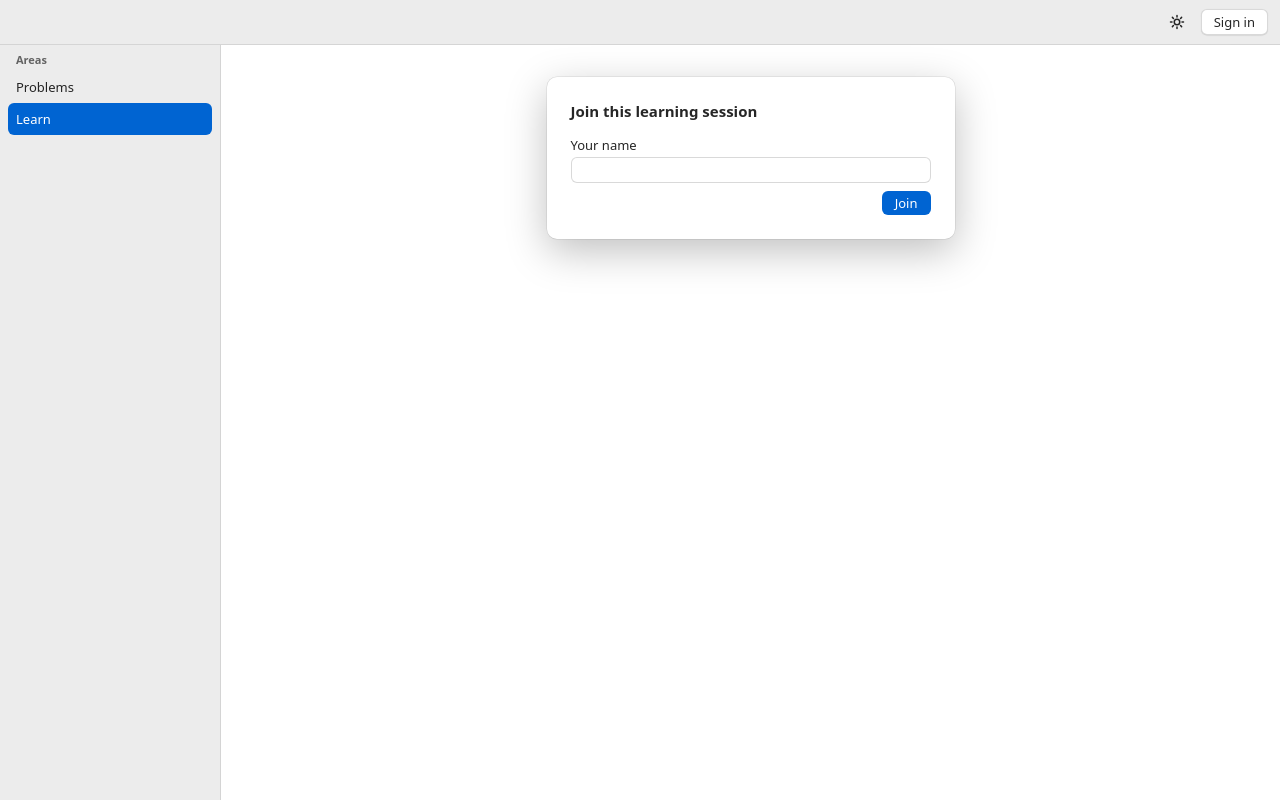
LearningSessionWindow: joining (FR-7, FR-8) › AC-7: a name the server refuses (4422) shows the invalid-name message
The image size is (1280, 800).
In the field labelled "Your name": (750, 170) 570,157 -> 930,183, type "Ada"
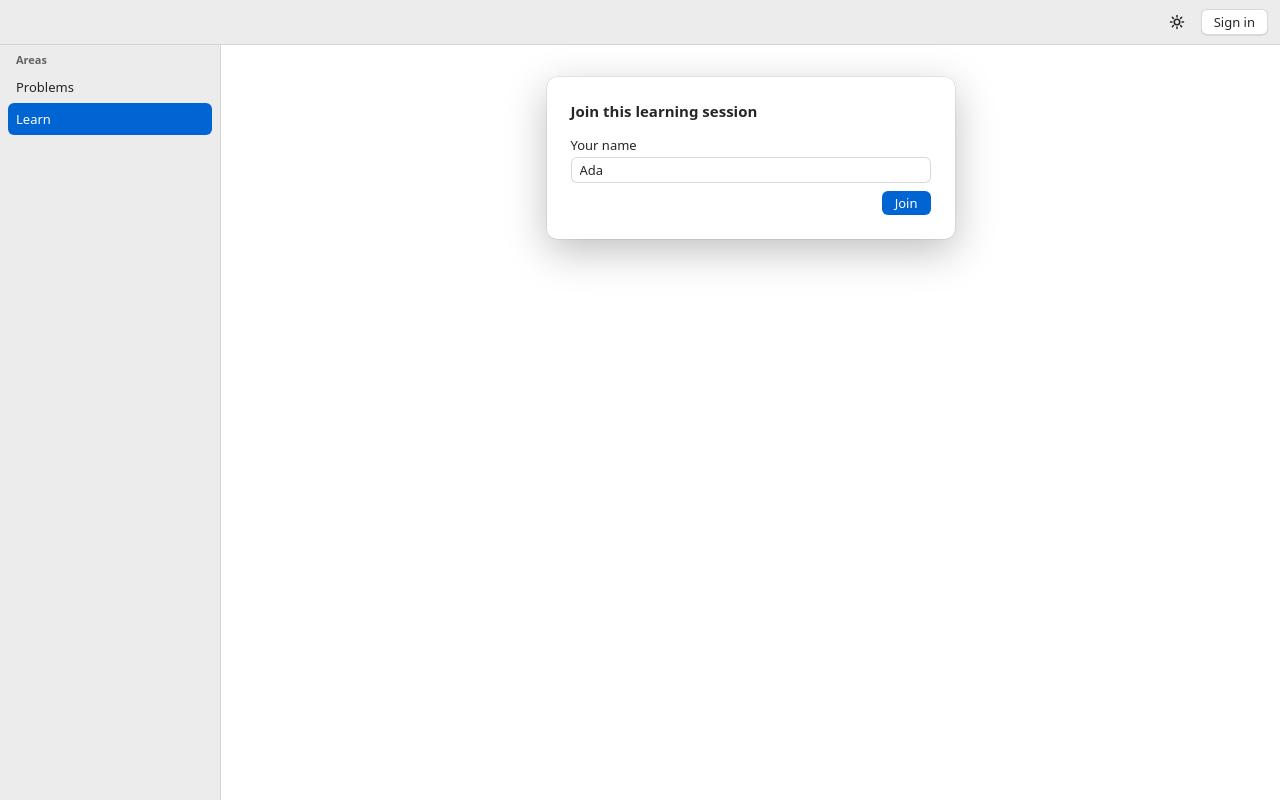
Click the button "Join": click(906, 203) 882,191 -> 930,215
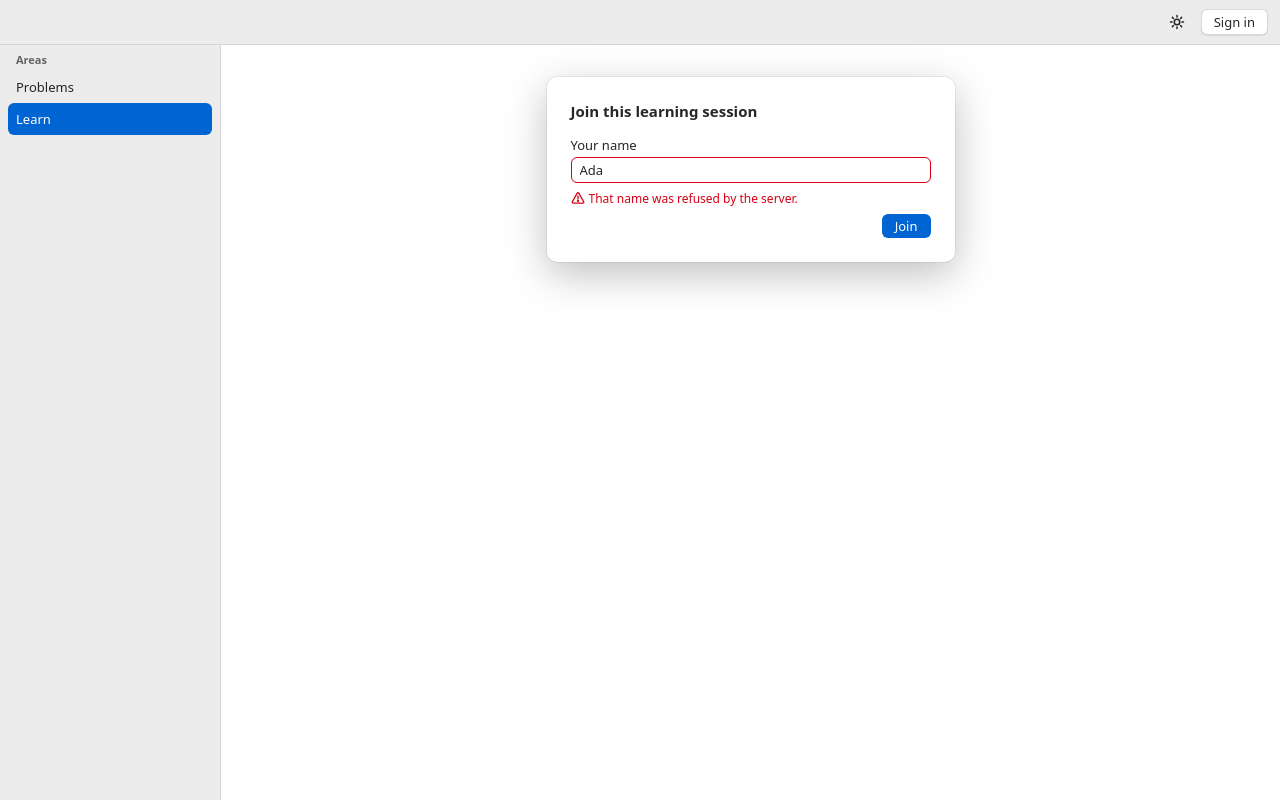
Expected: the text "That name was refused by the server." is shown, 588,191 -> 798,206
